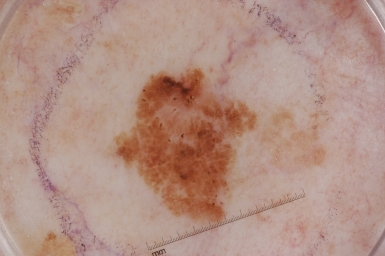seborrheic keratosis: (111, 66, 267, 228)
